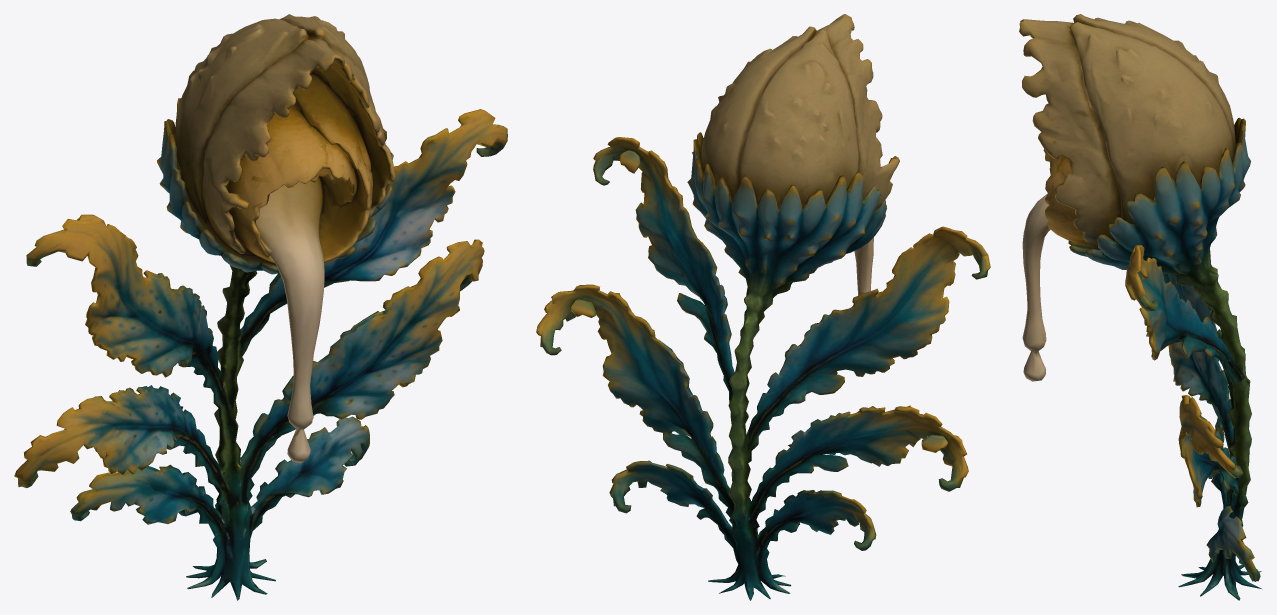
Rendered from ornamental+flower+3d+model+1k.glb.
The picture shows the model from 3 angles, left to right: view 1: azimuth 30°, elevation 25°; view 2: azimuth 150°, elevation 25°; view 3: azimuth 270°, elevation 25°; orthographic projection. The views are drawn at different scales.
Parts seen in each view (by area): view 1: tripo_node_cf35100a-fb74-4f0d-bd48-9635134114e8; view 2: tripo_node_cf35100a-fb74-4f0d-bd48-9635134114e8; view 3: tripo_node_cf35100a-fb74-4f0d-bd48-9635134114e8.
Part boxes in pixels (box(x1,y1,x2,y2)): tripo_node_cf35100a-fb74-4f0d-bd48-9635134114e8: box(14, 14, 507, 600); tripo_node_cf35100a-fb74-4f0d-bd48-9635134114e8: box(536, 14, 990, 600); tripo_node_cf35100a-fb74-4f0d-bd48-9635134114e8: box(1019, 14, 1262, 600).
Size of the model in its own units: 0.8536 by 1 by 0.3906.
1 material, 1 textured.
